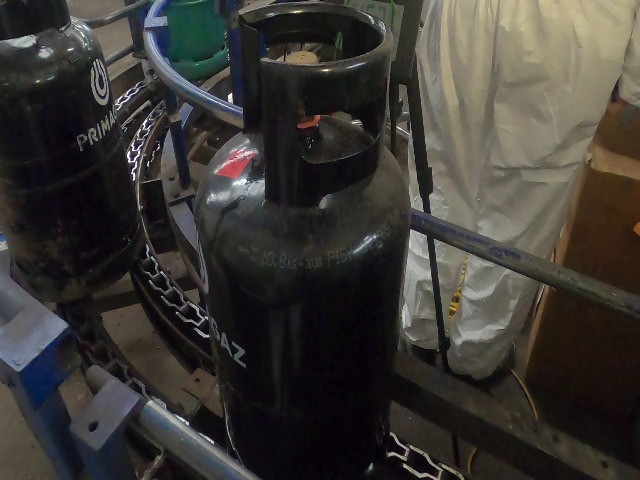gas_bottle: (0, 1, 640, 480)
